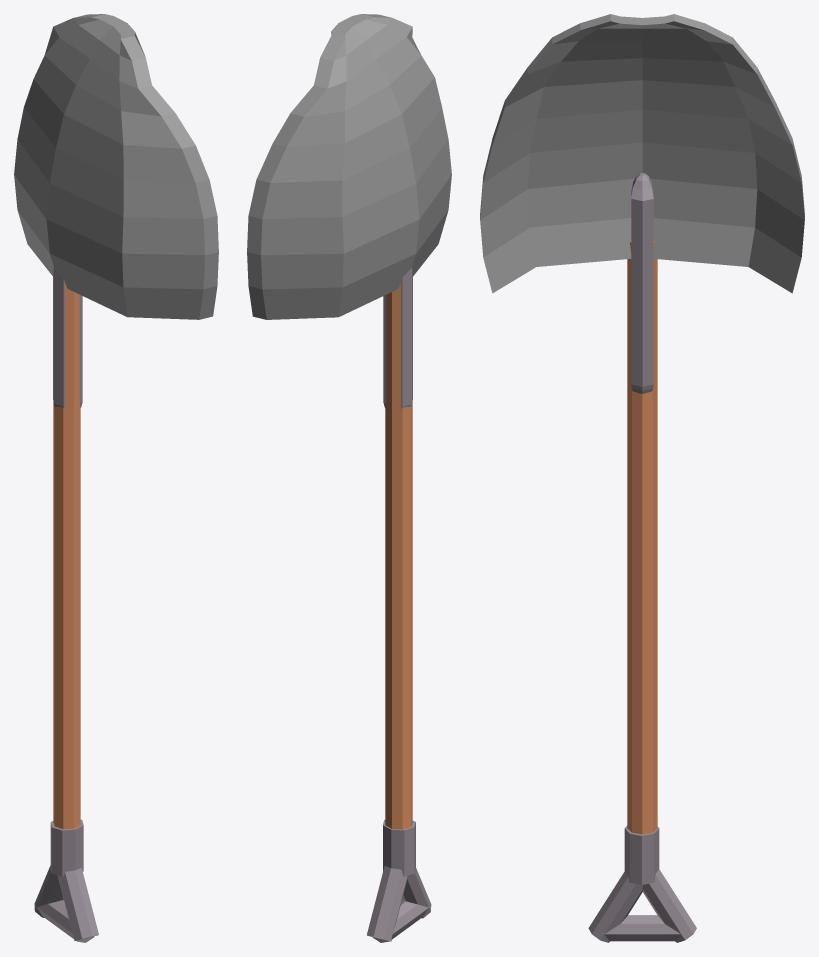
Rendered from shovel.fbx.
3 views of the same model, side by side, from view 1: azimuth 30°, elevation 25°; view 2: azimuth 150°, elevation 25°; view 3: azimuth 270°, elevation 25° (orthographic). The views are drawn at different scales.
Parts seen in each view (by area): view 1: Shovel; view 2: Shovel; view 3: Shovel.
Boxes of the visible parts, <box> form: Shovel: <box>14,14,218,942</box>; Shovel: <box>247,14,451,942</box>; Shovel: <box>480,14,804,942</box>.
Size of the model in its own units: 11.72 by 104 by 32.34.
